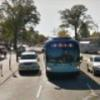buses: (46, 38, 82, 81)
